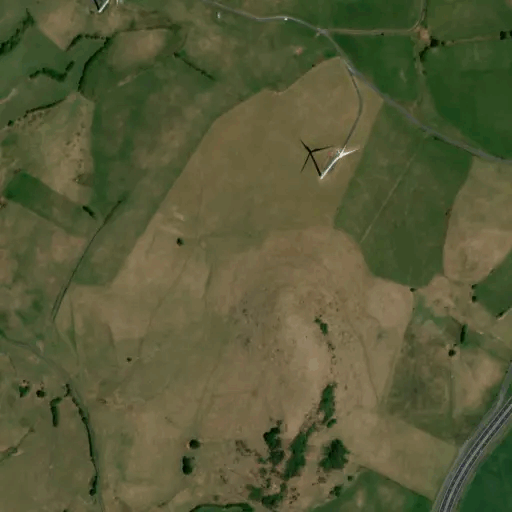wt: (297, 128, 367, 202)
